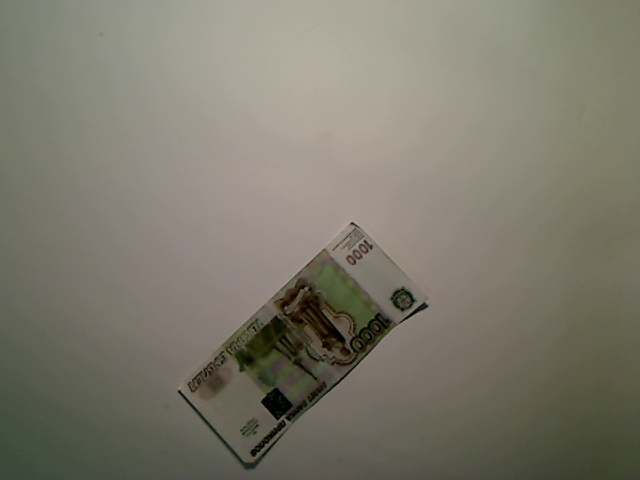banknotes: (174, 220, 434, 470)
